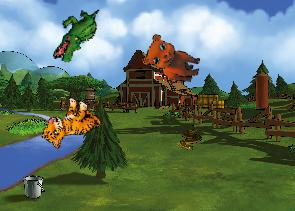bear: (140, 32, 205, 84)
crocodile: (51, 1, 101, 68)
tiger: (37, 90, 105, 160)
